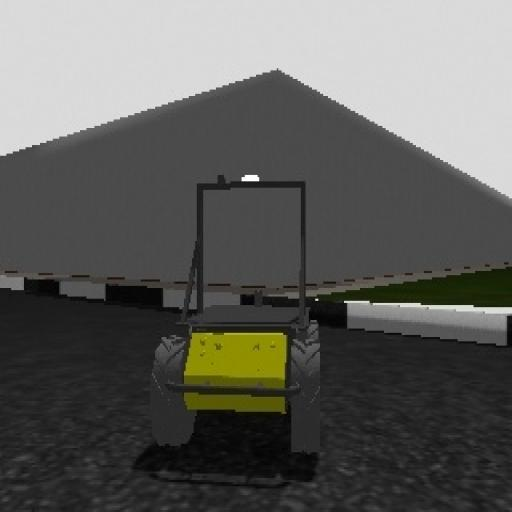huskya200: (152, 171, 330, 468)
